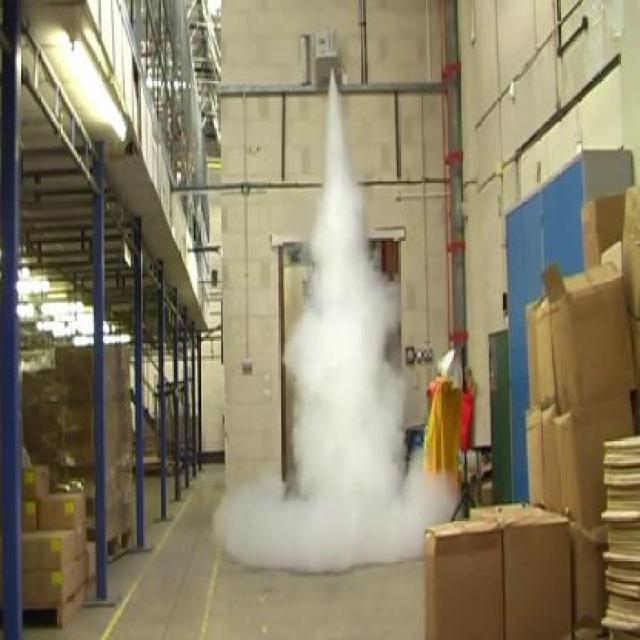fire: (282, 84, 412, 470), (210, 468, 475, 576)
